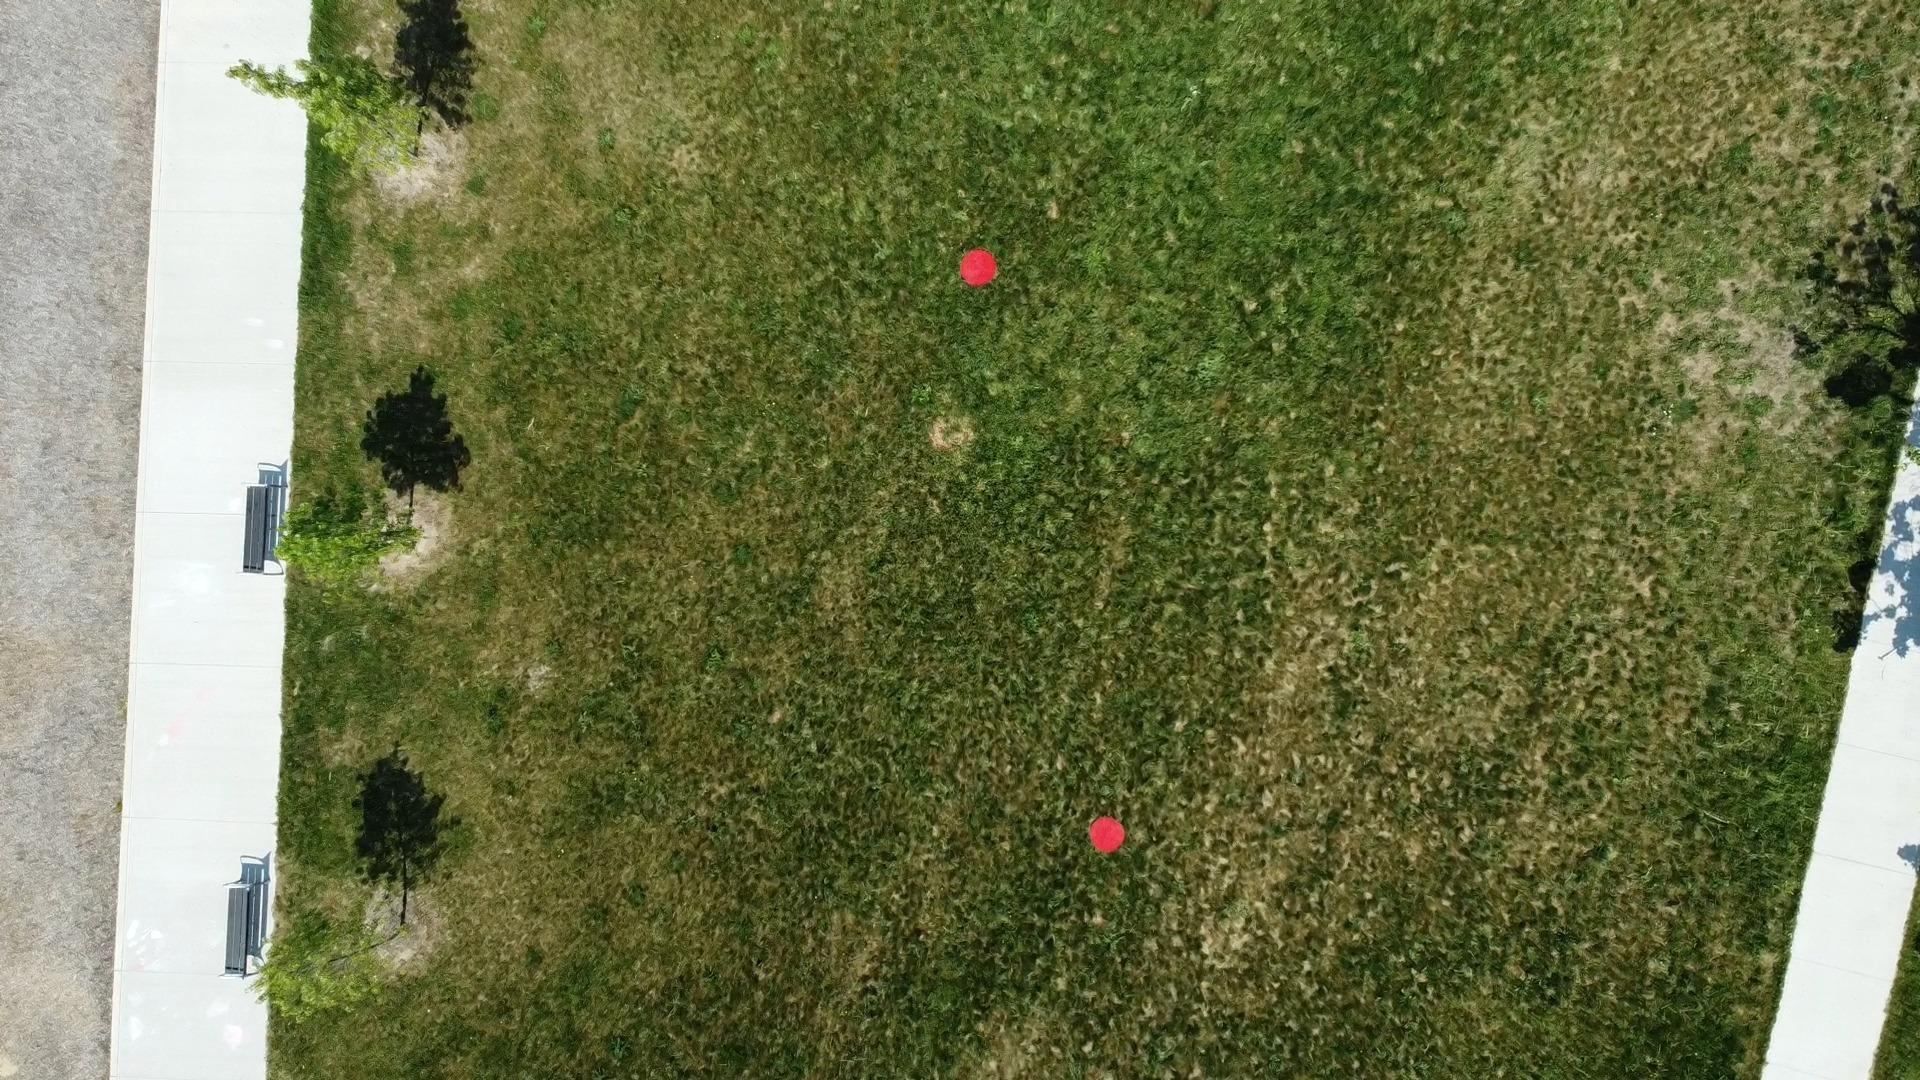Red: (960, 247, 1000, 289), (1088, 814, 1127, 855)
